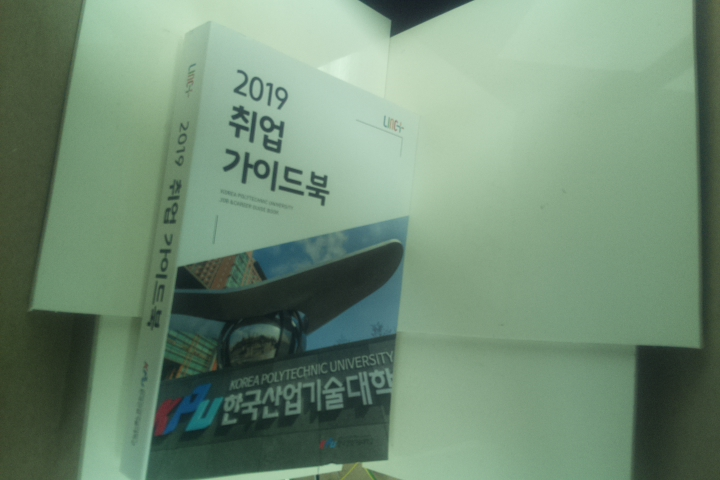book: (110, 19, 425, 480)
